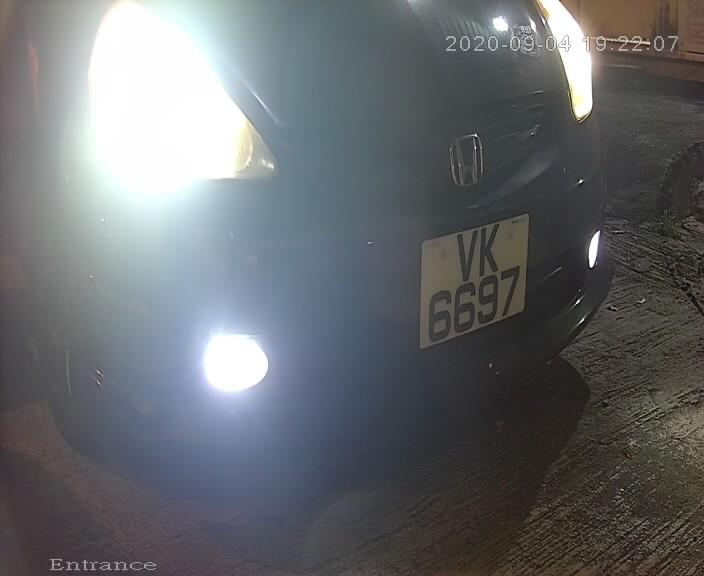License Plate: (402, 206, 535, 367)
